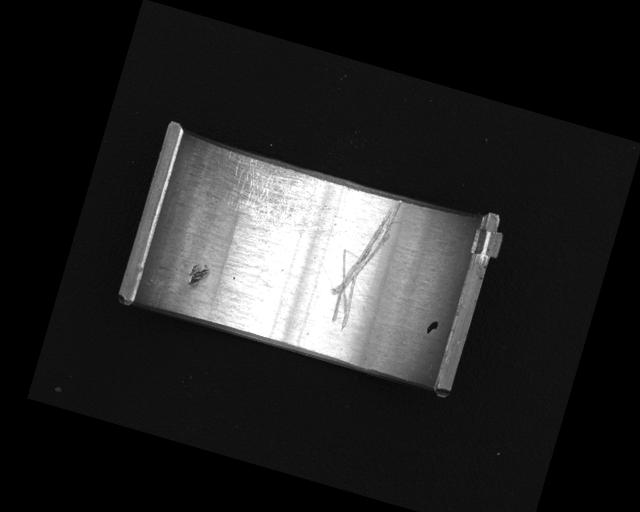blot: (424, 317, 440, 337)
bruise: (184, 259, 211, 292)
nick: (321, 187, 405, 336)
scratch: (213, 151, 347, 246)
